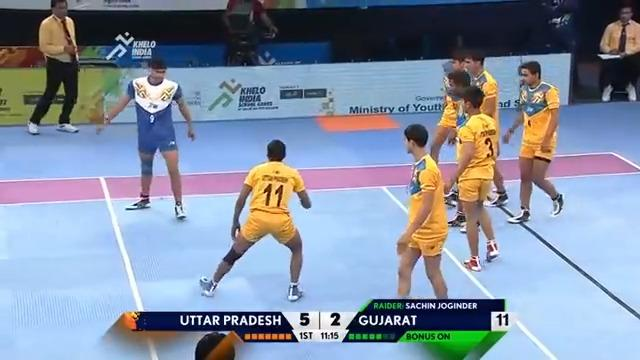Player: (198, 138, 311, 301), (443, 85, 500, 272), (503, 60, 564, 223), (395, 123, 448, 299)
Raider: (96, 57, 196, 220)
referee: (26, 0, 81, 134), (597, 4, 639, 102)
